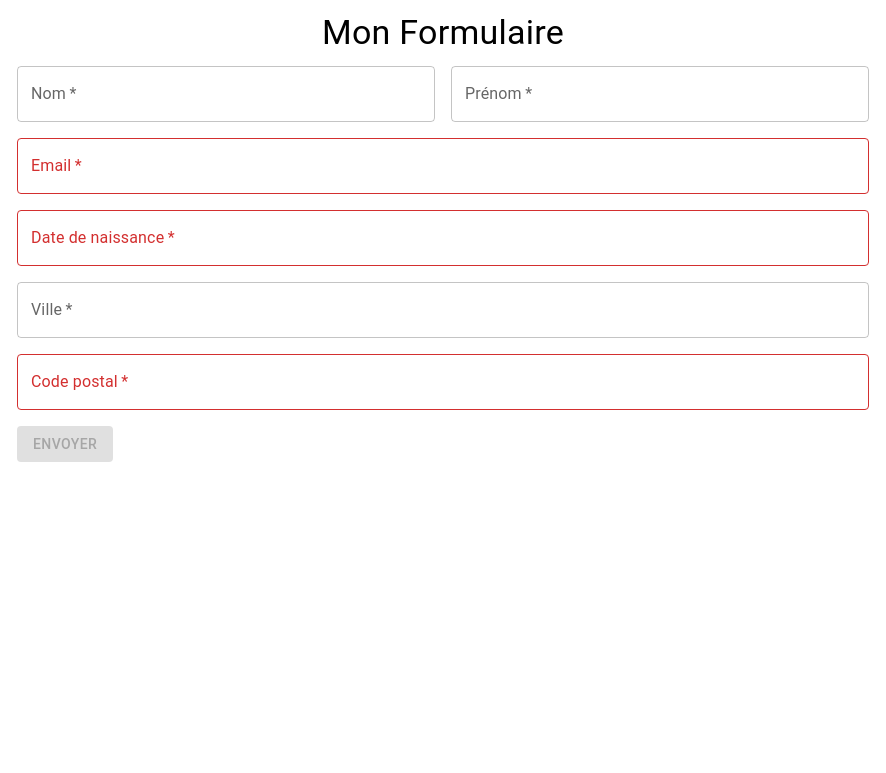
Test: Forms component › should save user data to localStorage on successful submission
Type "Jean" into the field labelled "Nom *" at x=226, y=94, box [17,66,435,122]
Type "Dupont" into the field labelled "Prénom *" at x=660, y=94, box [451,66,869,122]
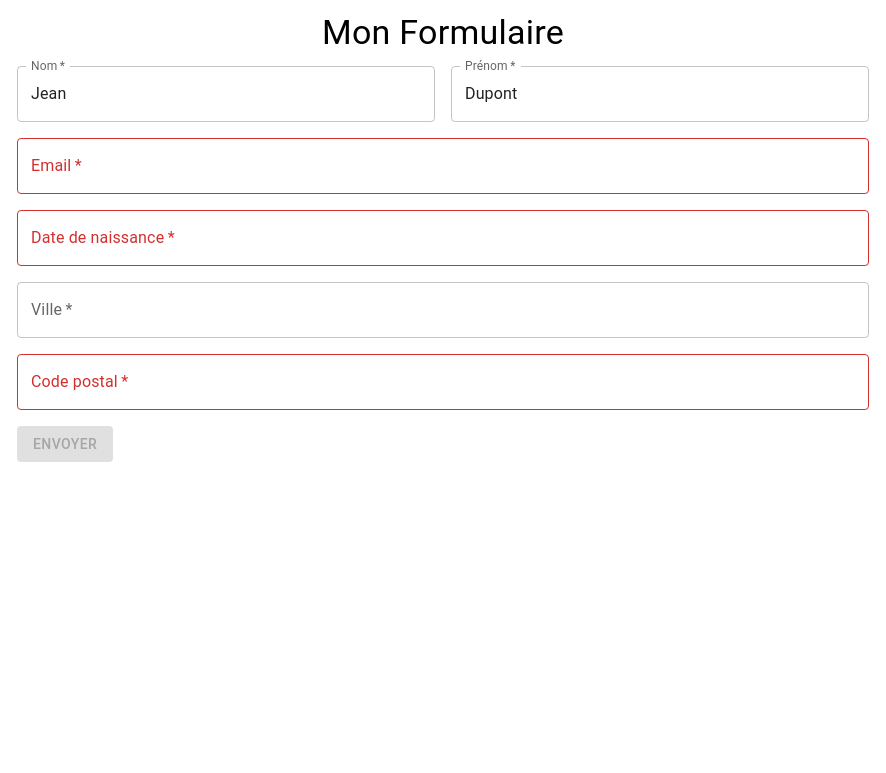
Type "email@example.com" into the field labelled "Email *" at x=443, y=166, box [17,138,869,194]
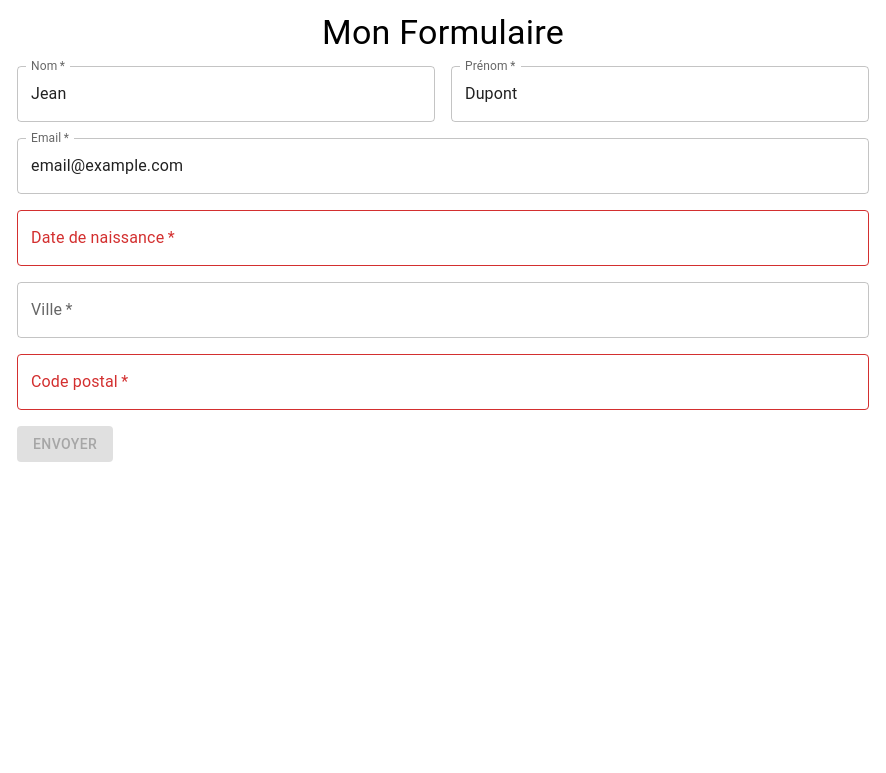
Type "02/02/1994" into the field labelled "Date de naissance *" at x=443, y=238, box [17,210,869,266]
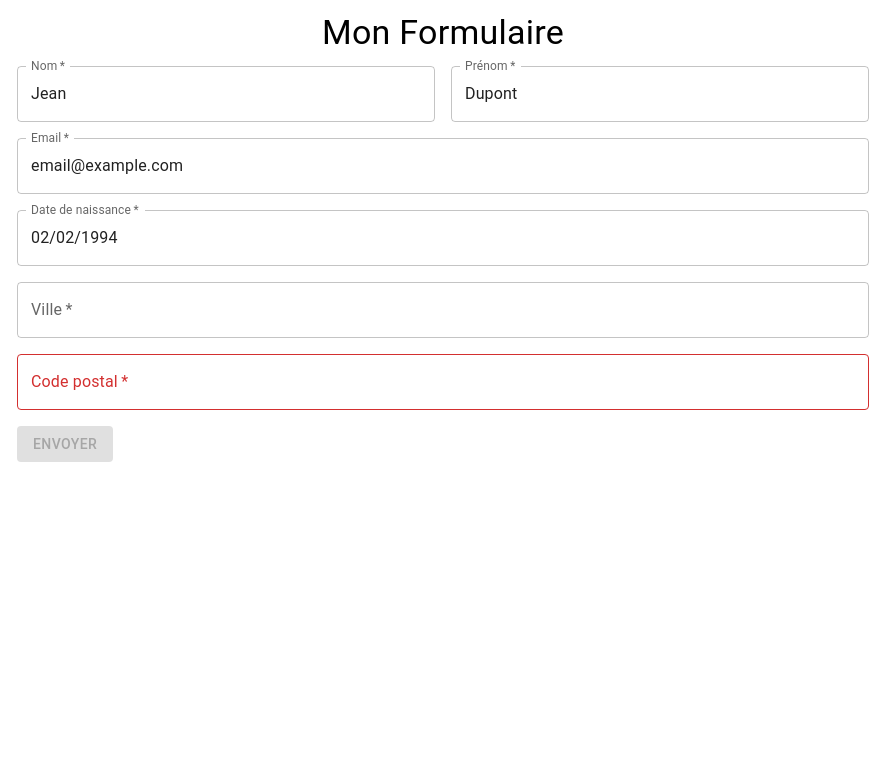
Type "Grasse" into the field labelled "Ville *" at x=443, y=310, box [17,282,869,338]
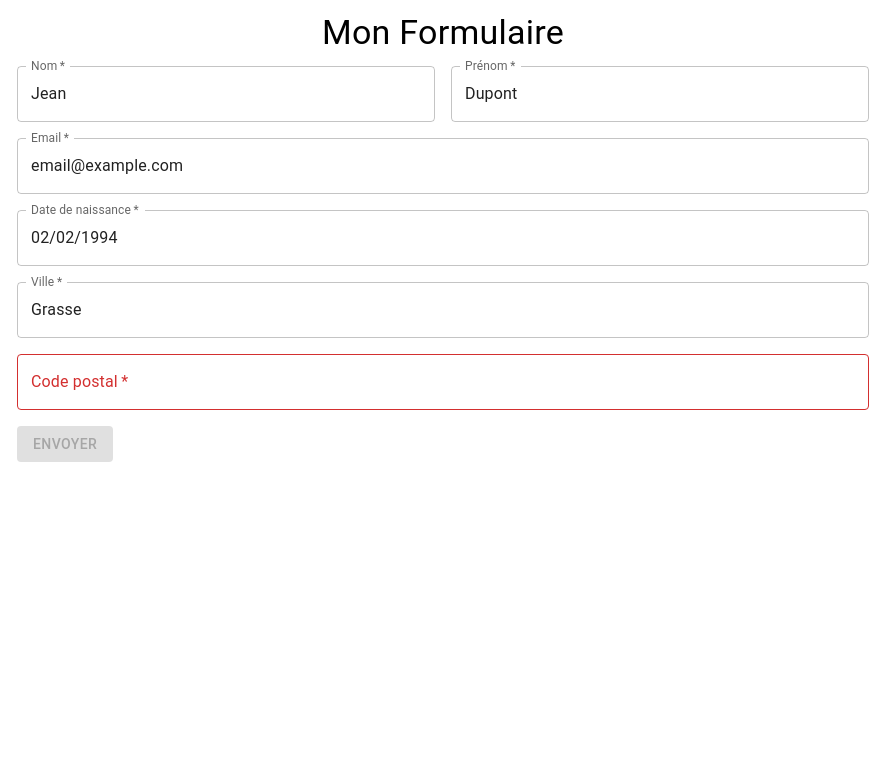
Type "06130" into the field labelled "Code postal *" at x=443, y=382, box [17,354,869,410]
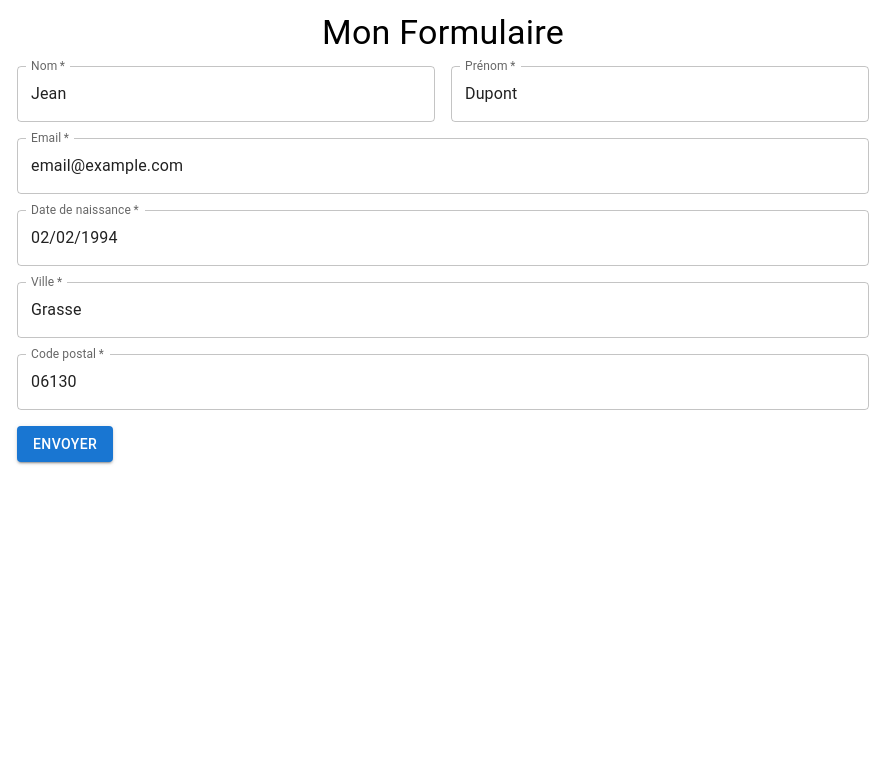
Submit the form from the button "Envoyer", box [17,426,113,462]
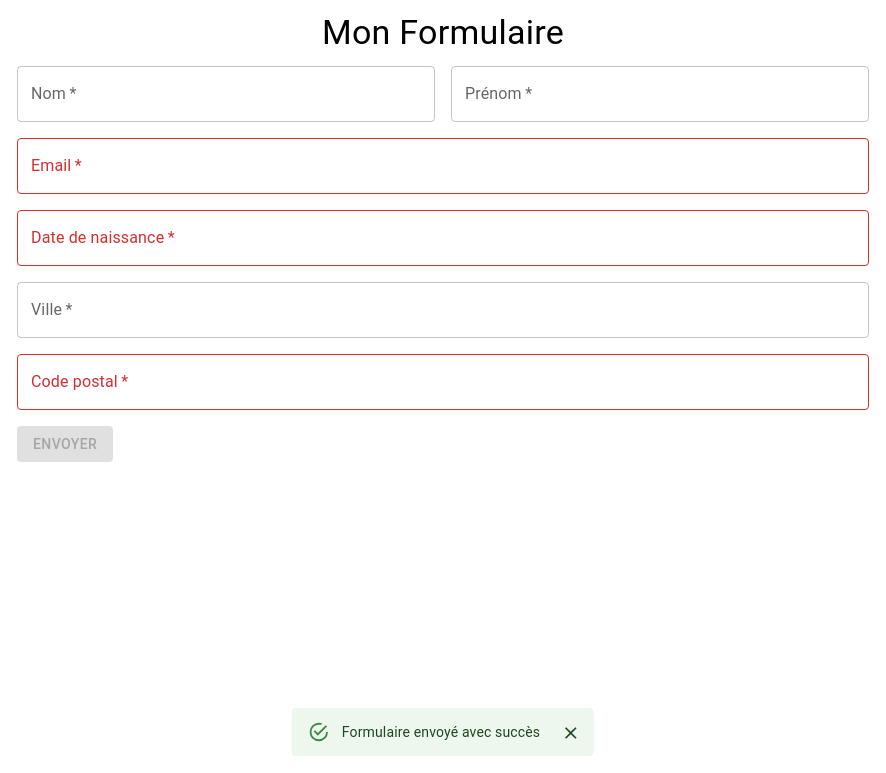
Check: the text "Formulaire envoyé avec succès" is shown, box [342,724,540,740]
